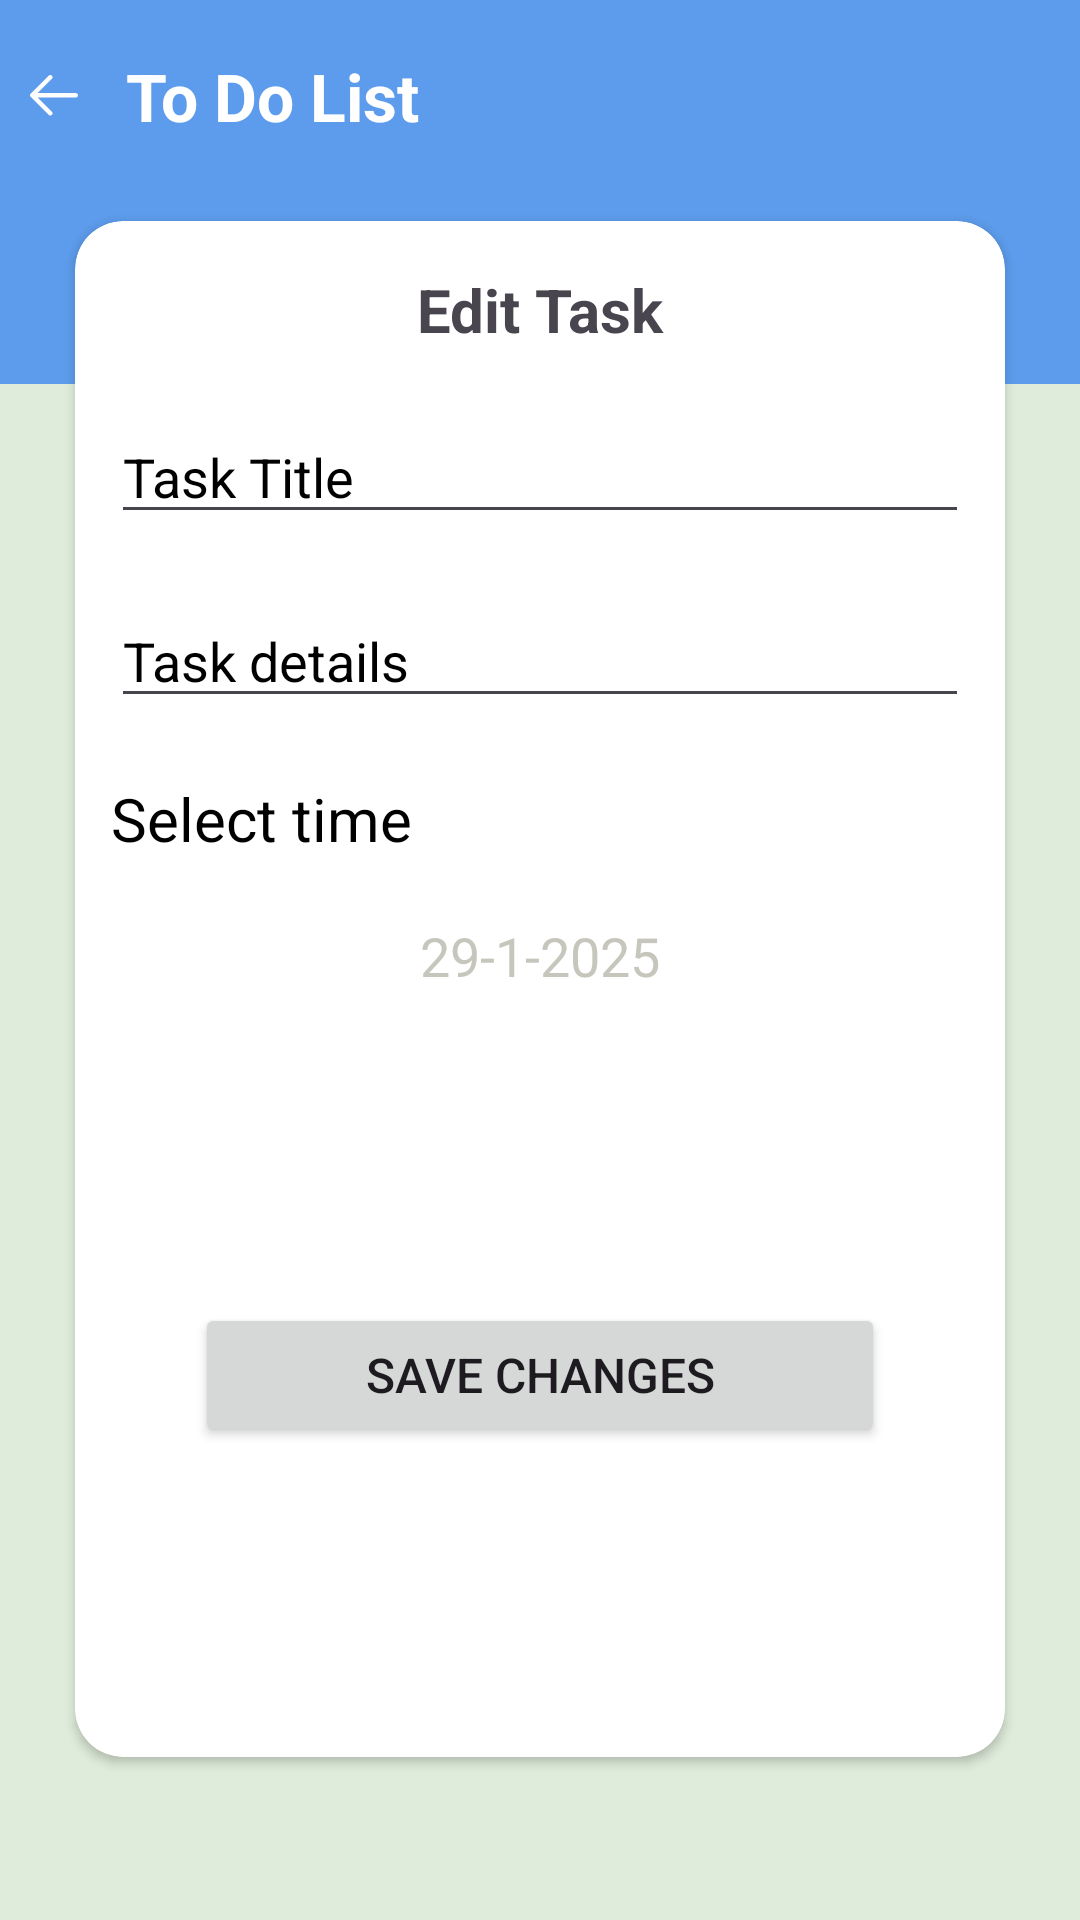

Named icons in this screenshot (1080 × 1920) and their centers, (x,y):
back: (54,95)
